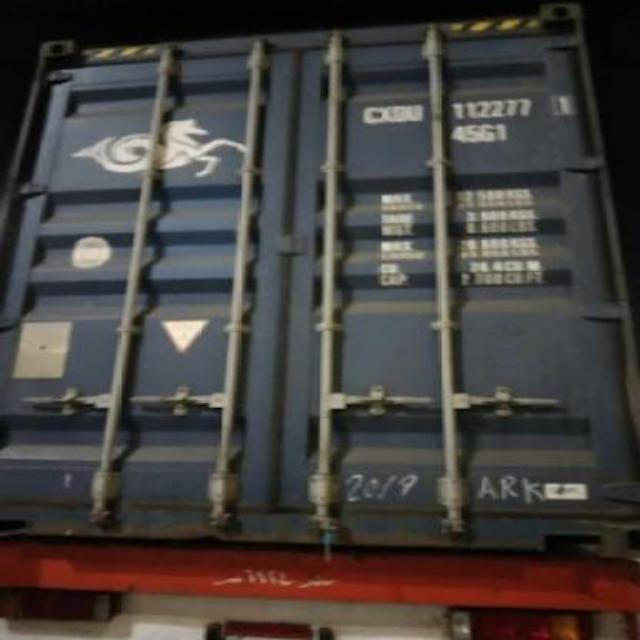1: (558, 94, 572, 114), (454, 100, 464, 120), (468, 99, 476, 117)
2: (476, 98, 492, 120), (492, 99, 504, 117)
7: (520, 95, 534, 118), (506, 97, 520, 117)
C: (364, 103, 378, 123)
D: (394, 105, 408, 121)
U: (411, 101, 424, 122)
X: (378, 105, 392, 123)
